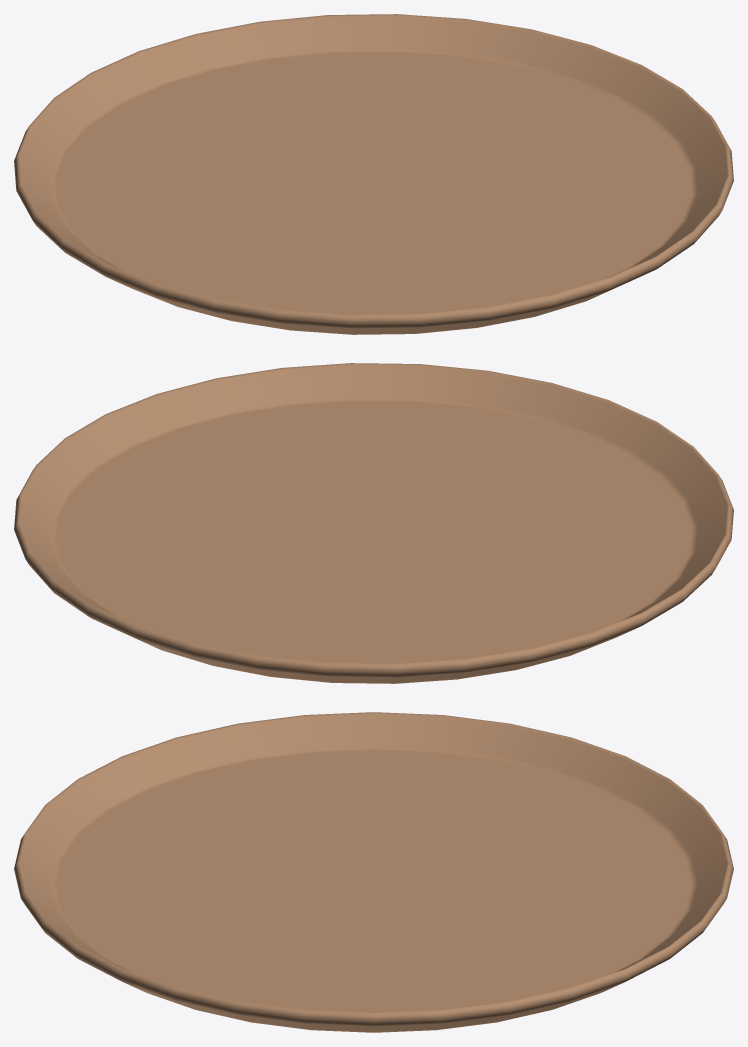
The model's file is tepsi.fbx.
The picture shows the model from 3 angles, top to bottom: view 1: azimuth 30°, elevation 25°; view 2: azimuth 150°, elevation 25°; view 3: azimuth 270°, elevation 25°; orthographic projection.
Visible parts, largest first — view 1: Circle; view 2: Circle; view 3: Circle.
Boxes of the visible parts, <box> form: Circle: <box>14,14,733,334</box>; Circle: <box>14,363,733,683</box>; Circle: <box>14,712,733,1032</box>.
Bounding box in the file's own units: 72.37 × 3.85 × 72.37.
